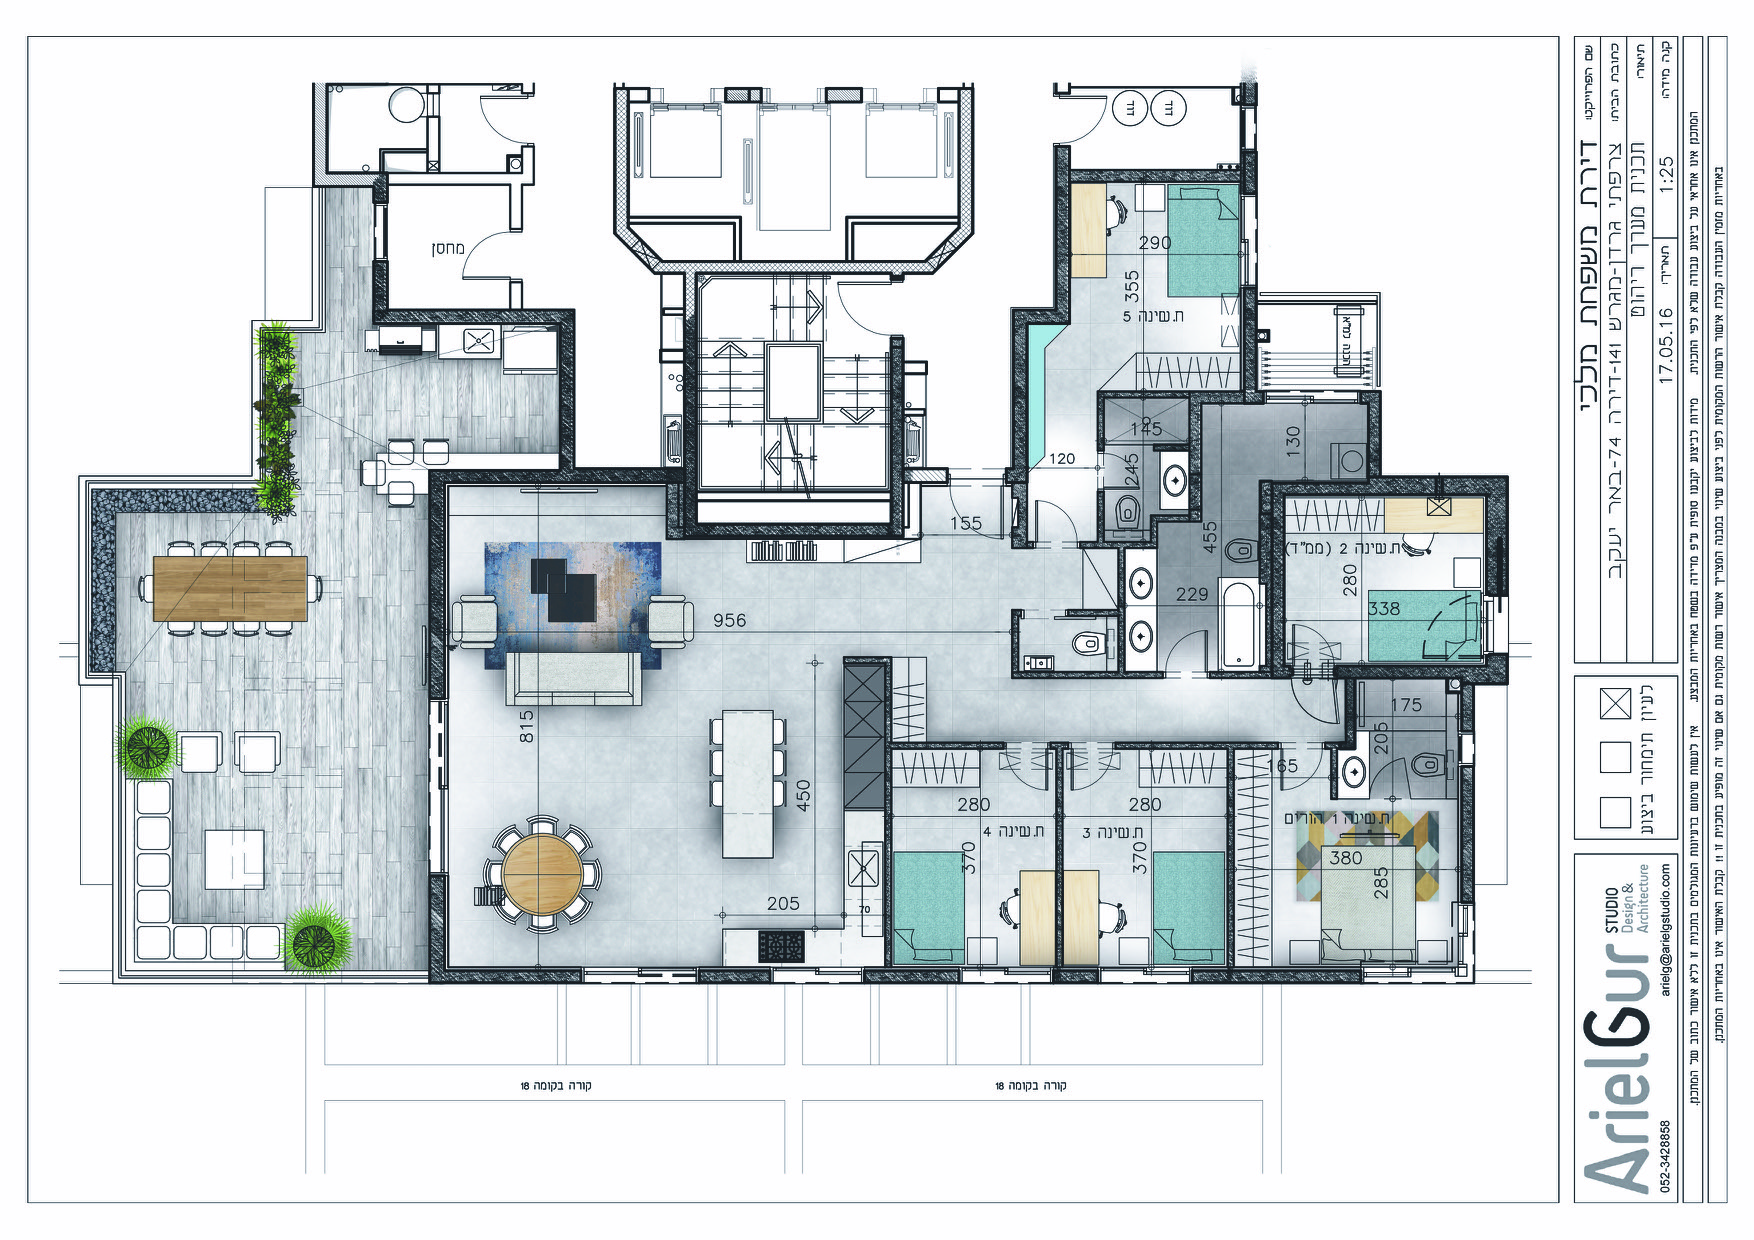door: (833, 280, 909, 333), (472, 93, 539, 148), (458, 229, 527, 279)
wall: (429, 467, 450, 701), (687, 522, 900, 538)
window: (580, 965, 697, 984), (768, 965, 863, 986), (374, 204, 386, 260)
